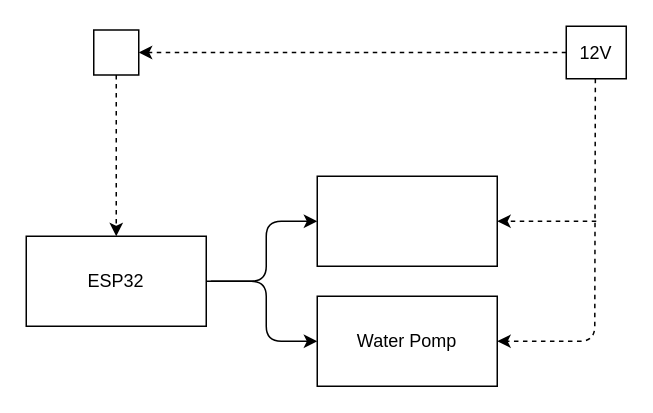
The diagram is 653 pixels wide and 413 high, and some of its shapes have lost their labels. The centre of each missing label's shape, as x and y in pixels:
"5V" goes at (115,51).
"Nutrient Pomp" goes at (406,220).
